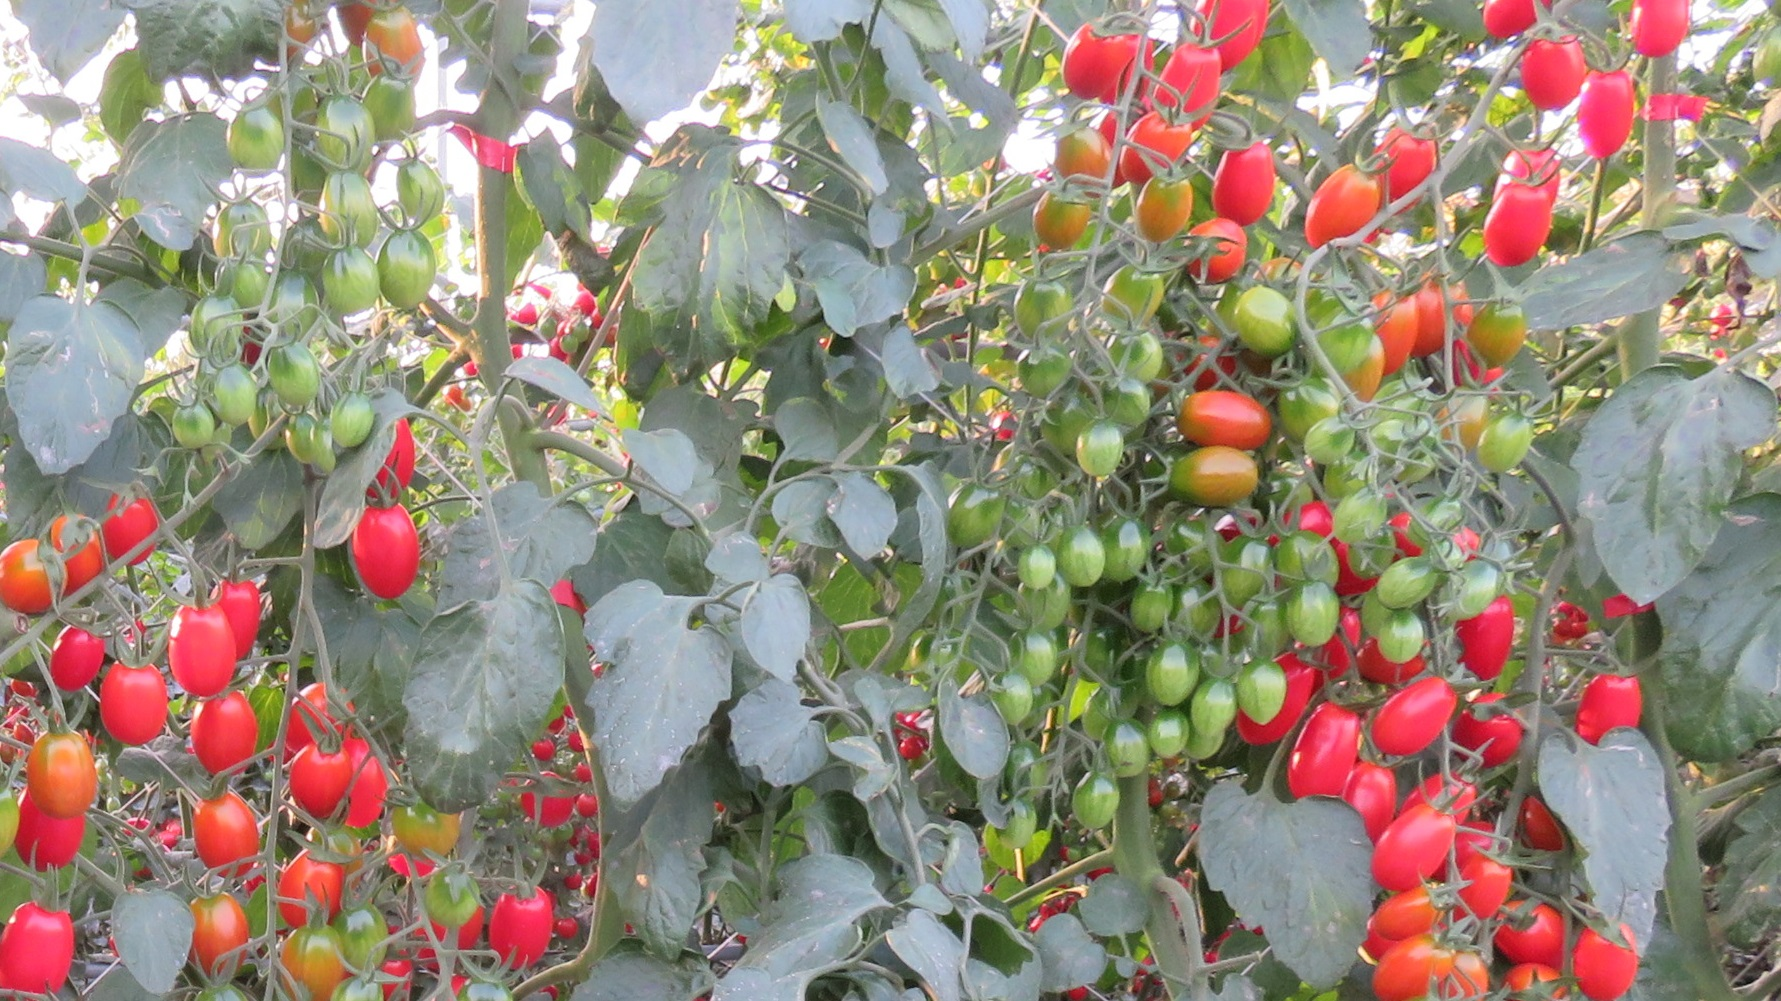green: (276, 920, 346, 992), (314, 97, 379, 174), (206, 201, 275, 272), (221, 100, 283, 181), (1229, 286, 1294, 361), (313, 176, 378, 250), (380, 229, 432, 314), (1278, 582, 1339, 653), (1010, 279, 1075, 345), (398, 158, 450, 237), (1473, 416, 1535, 478), (190, 295, 248, 360), (384, 800, 444, 863), (1374, 558, 1438, 616), (1145, 641, 1198, 711), (1105, 270, 1164, 330), (323, 251, 378, 314), (336, 907, 387, 977), (1098, 516, 1151, 581), (1216, 543, 1273, 601), (369, 80, 424, 140), (1048, 531, 1105, 589), (1231, 671, 1288, 727), (267, 349, 320, 409), (1106, 337, 1166, 389), (1074, 430, 1128, 486), (427, 876, 478, 932), (209, 363, 254, 427), (1070, 777, 1116, 838), (172, 387, 214, 450), (1298, 419, 1355, 464), (1106, 722, 1149, 780), (330, 394, 369, 455), (283, 416, 327, 467), (1379, 619, 1421, 671), (1016, 633, 1059, 683), (996, 682, 1035, 732), (1198, 691, 1237, 742), (1150, 715, 1185, 757), (1019, 556, 1053, 594)
orange: (24, 733, 98, 819), (1304, 168, 1375, 250), (191, 794, 254, 881), (1467, 294, 1531, 374), (1174, 392, 1271, 445), (1370, 884, 1453, 943), (1370, 940, 1461, 992), (1168, 449, 1262, 499), (360, 13, 427, 80), (5, 538, 59, 619), (197, 699, 254, 771), (197, 899, 248, 980), (1366, 288, 1414, 370), (1036, 191, 1097, 255)
red: (1369, 679, 1461, 757), (1283, 702, 1359, 797), (1368, 806, 1450, 888), (1476, 185, 1553, 269), (356, 507, 421, 605), (1059, 33, 1145, 106), (1516, 39, 1591, 114), (2, 909, 73, 989), (95, 487, 161, 570), (98, 664, 168, 742), (1196, 1, 1271, 70), (1569, 928, 1645, 995), (171, 616, 237, 689), (291, 745, 356, 820), (1582, 80, 1635, 169), (1576, 674, 1655, 732), (1212, 147, 1277, 217), (1462, 695, 1527, 760), (489, 899, 553, 963), (1156, 58, 1224, 116), (1459, 611, 1516, 682), (48, 624, 98, 700), (1383, 126, 1438, 195), (1628, 1, 1689, 62), (1501, 915, 1568, 964), (1462, 858, 1514, 917), (1487, 1, 1549, 45), (1352, 762, 1396, 819)
